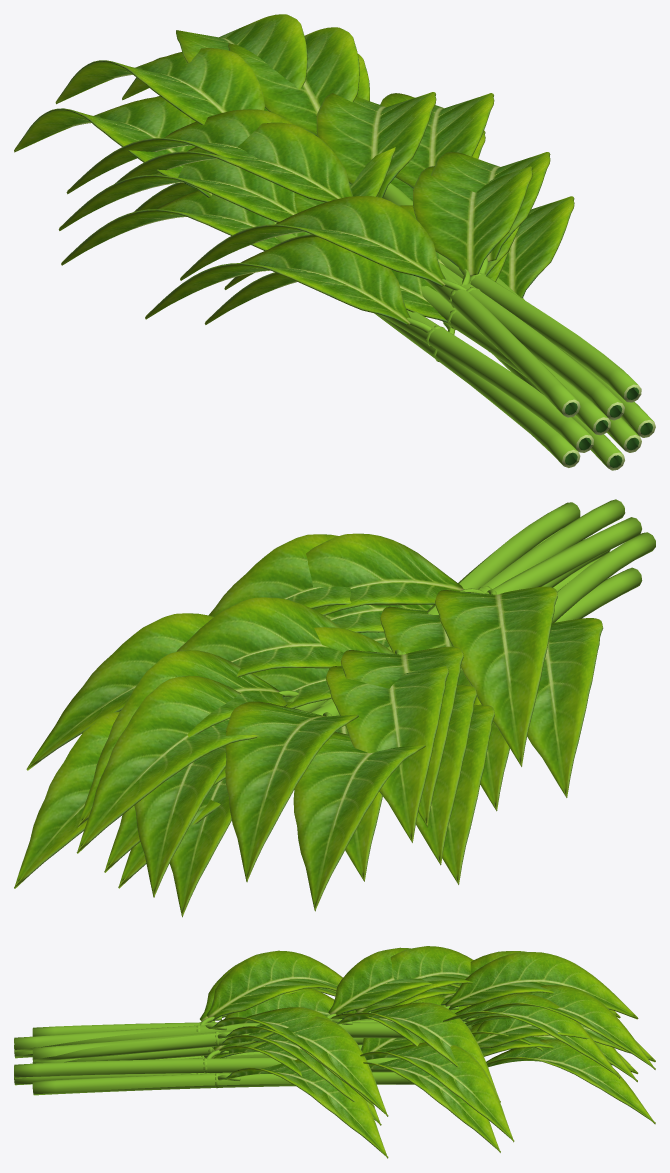
File: NP_WaterSpinach_Harvest.fbx
3 views of the same model, one above another, from view 1: azimuth 30°, elevation 25°; view 2: azimuth 150°, elevation 25°; view 3: azimuth 270°, elevation 25° (orthographic). The views are drawn at different scales.
Visible parts, largest first — view 1: NP_WaterSpinach_Harvest; view 2: NP_WaterSpinach_Harvest; view 3: NP_WaterSpinach_Harvest.
Part boxes in pixels (bbox=[...]): NP_WaterSpinach_Harvest: bbox=[14, 14, 655, 470]; NP_WaterSpinach_Harvest: bbox=[14, 499, 655, 917]; NP_WaterSpinach_Harvest: bbox=[14, 946, 655, 1158].
Size of the model in its own units: 44.35 by 16.48 by 86.17.
